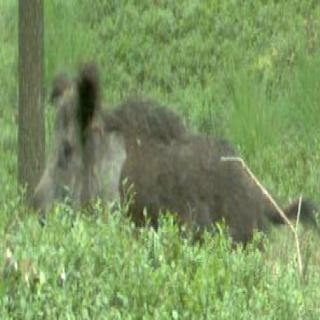Pig: (19, 45, 318, 270)
